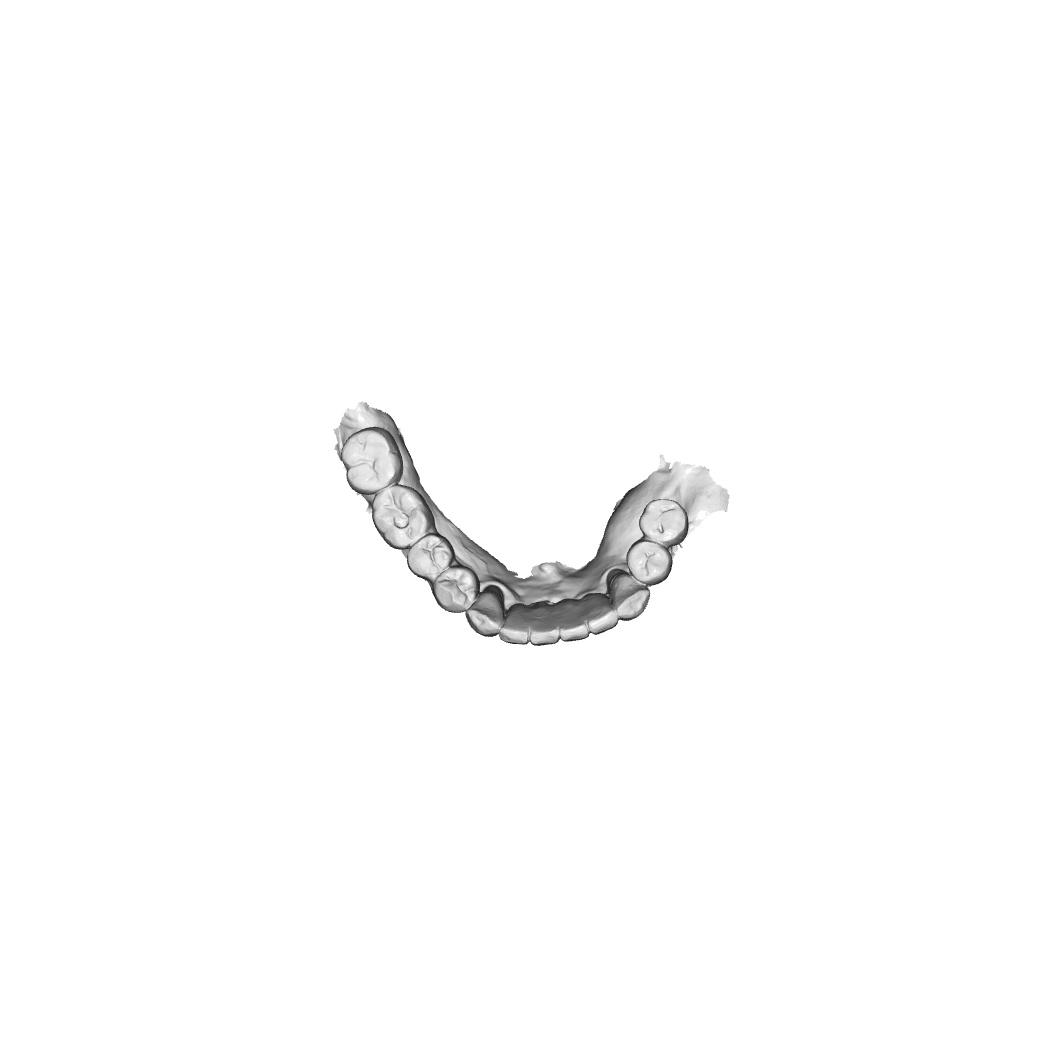canine: (608, 570, 651, 622), (465, 585, 506, 639)
incisor: (529, 600, 560, 647), (498, 602, 530, 646), (560, 598, 589, 642), (586, 599, 619, 635)
molar: (370, 483, 435, 550), (340, 426, 403, 495)
premolar: (431, 564, 480, 614), (638, 498, 690, 545), (406, 533, 456, 581), (626, 537, 674, 587)
